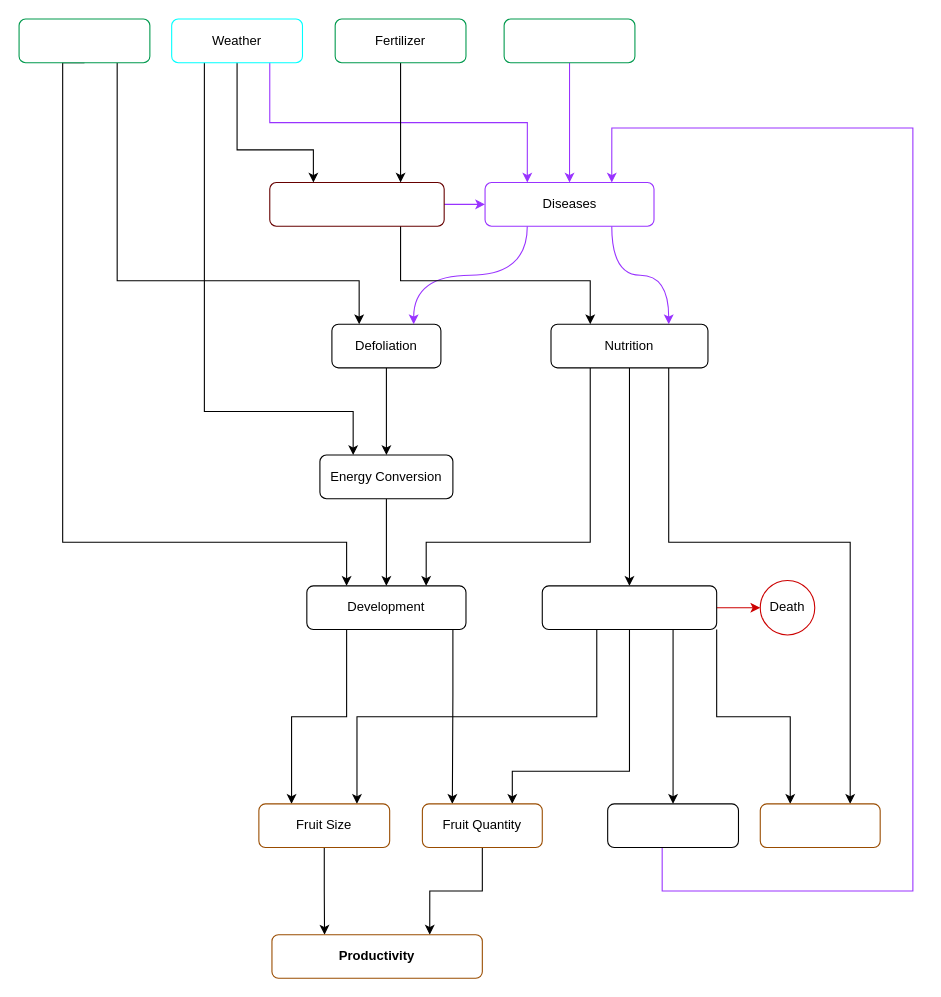
Image size: 941x997. Some labels were removed from this diagram. The shapes that lost their labels are listed below. From the top down, each one's centre as x and y in pixels, then its label:
At point 84,40: "Pruning".
At point 569,40: "Pesticide".
At point 356,203: "Soil".
At point 629,607: "Health".
At point 672,825: "Imunologic System".
At point 819,825: "Fruit Quality".
